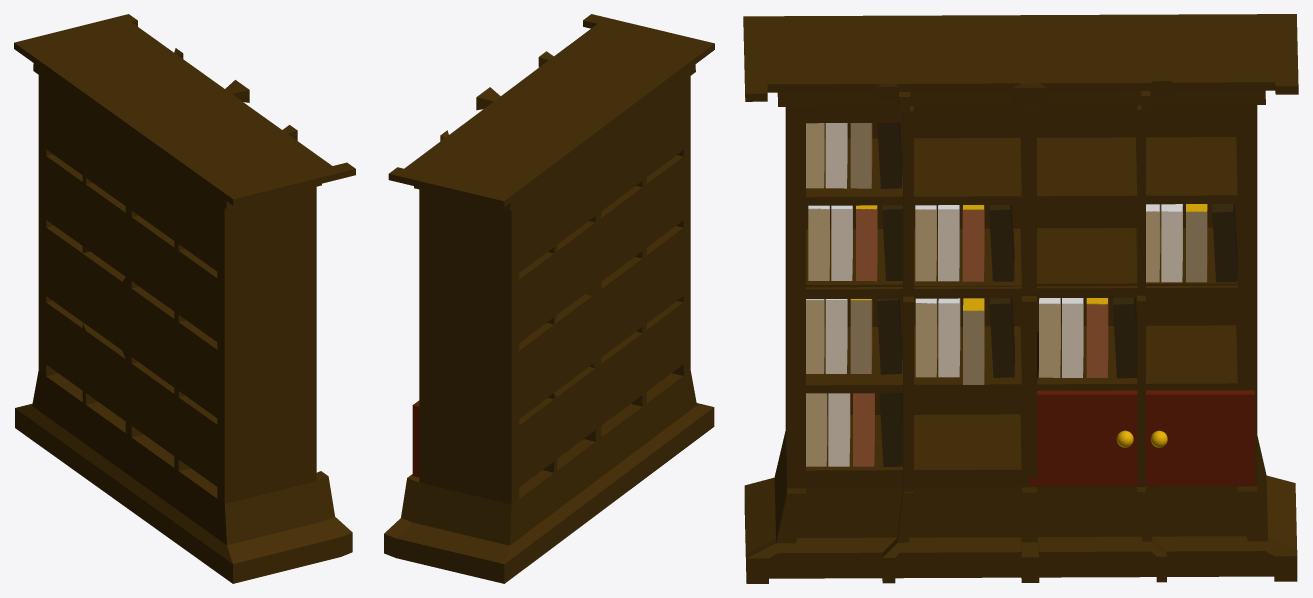
Rendered from cachette.fbx.
3 views of the same model, side by side, from view 1: azimuth 30°, elevation 25°; view 2: azimuth 150°, elevation 25°; view 3: azimuth 270°, elevation 25° (orthographic). The views are drawn at different scales.
Visible parts, largest first — view 1: book1.017_Cube.018; view 2: book1.017_Cube.018, Cube.001; view 3: book1.017_Cube.018, Cube.001, Sphere.
Part boxes in pixels (<box>): book1.017_Cube.018: <box>14,14,355,583</box>; book1.017_Cube.018: <box>384,14,714,583</box>; Cube.001: <box>412,400,419,477</box>; book1.017_Cube.018: <box>743,14,1298,583</box>; Cube.001: <box>1146,390,1254,485</box>; Sphere: <box>1029,390,1138,485</box>.
Bounding box in the file's own units: 390 × 1139 × 1149.
